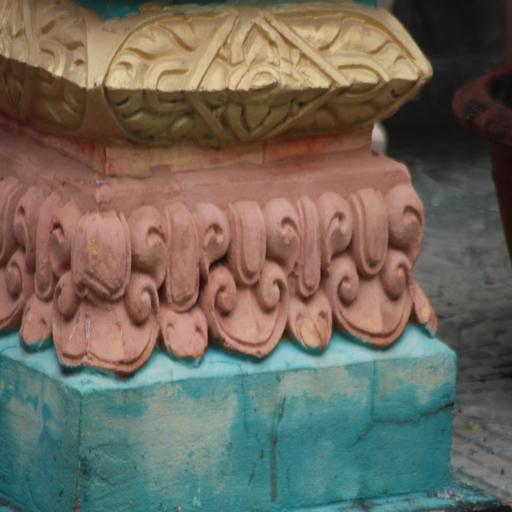la: (57, 202, 158, 370), (322, 187, 424, 348), (201, 195, 295, 362), (134, 202, 224, 368), (267, 194, 337, 350), (10, 194, 76, 348)
